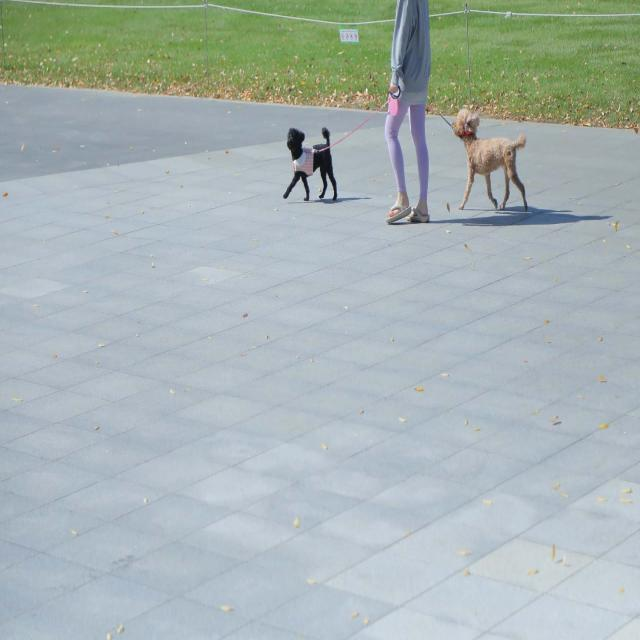Leashed_Dog: (282, 78, 405, 202), (418, 84, 531, 210)
